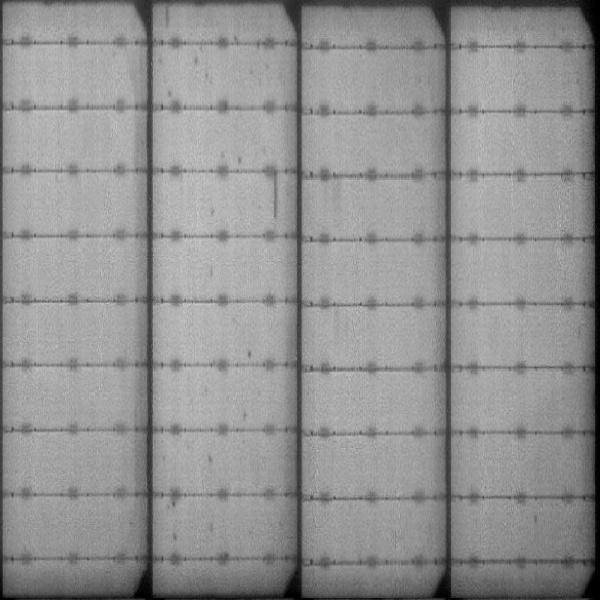scratch: (269, 173, 283, 229)
